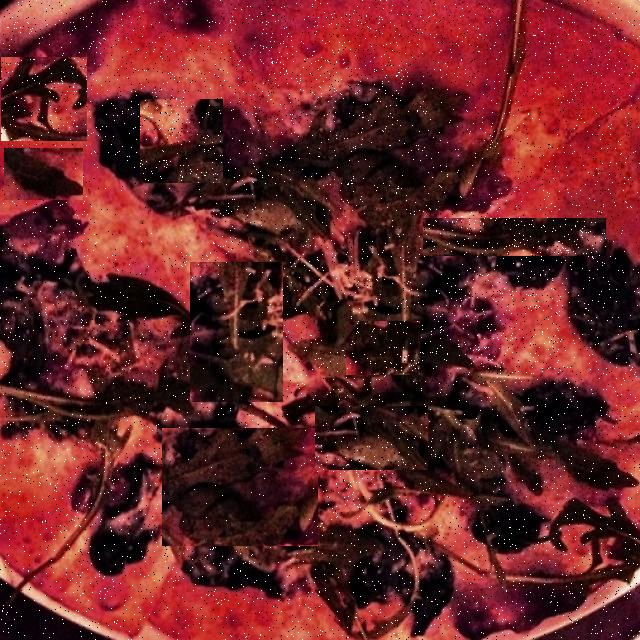Pizza: (0, 0, 640, 640)
Rucola: (227, 4, 402, 117), (162, 428, 318, 546), (190, 262, 283, 402), (98, 160, 208, 254), (439, 291, 563, 370), (315, 406, 428, 470), (1, 57, 87, 141), (140, 99, 223, 183), (423, 218, 606, 256), (4, 148, 83, 200), (346, 321, 421, 375)
